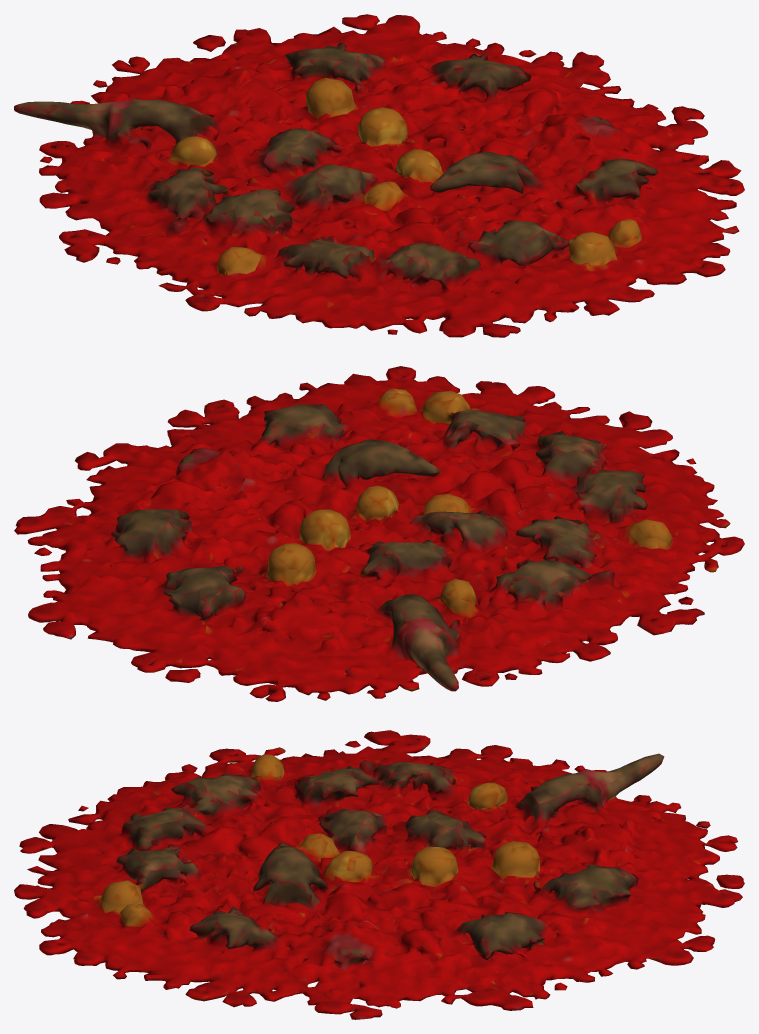
The model's file is TROOU0.obj.
3 renders of one model, top to bottom at view 1: azimuth 30°, elevation 25°; view 2: azimuth 150°, elevation 25°; view 3: azimuth 270°, elevation 25°, orthographic. The views are drawn at different scales.
Bounding box in the file's own units: 0.9323 × 0.0786 × 0.9999.
Materials: 1 (1 with a texture image).
